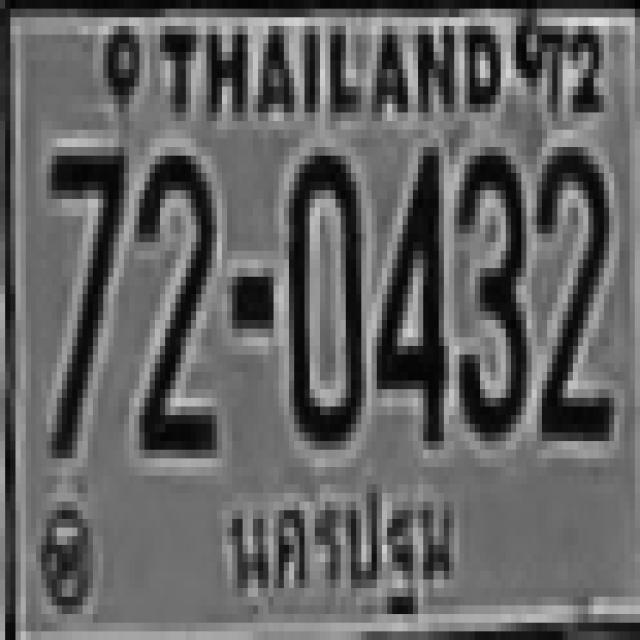0: (286, 147, 359, 441)
2: (134, 147, 212, 450), (534, 142, 607, 436)
3: (454, 138, 521, 432)
4: (371, 142, 444, 436)
7: (46, 138, 124, 450)
NakhonPathom: (219, 466, 475, 632)
